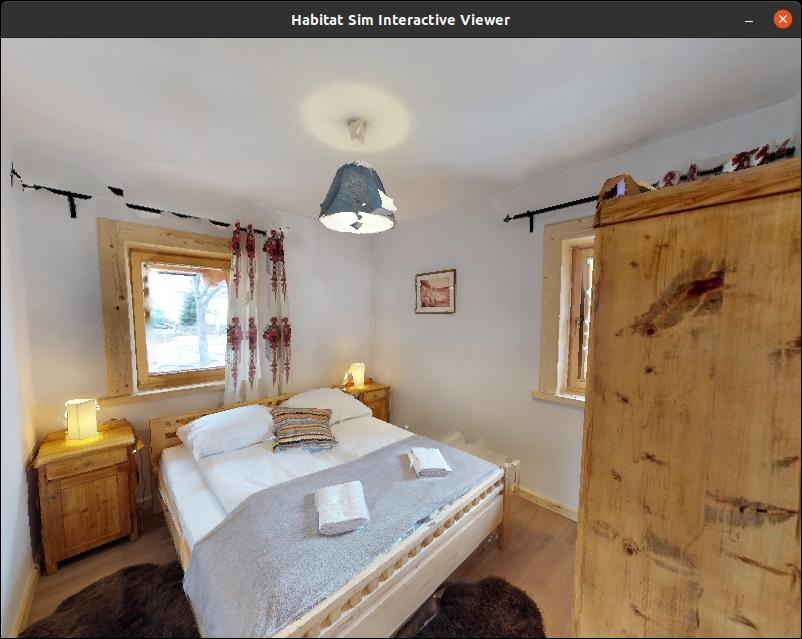bed: (129, 341, 557, 639)
